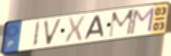A: (83, 15, 106, 41)
I: (31, 20, 42, 49)
M: (107, 8, 137, 39), (128, 6, 156, 36)
V: (42, 17, 64, 47)
X: (63, 15, 87, 45)
